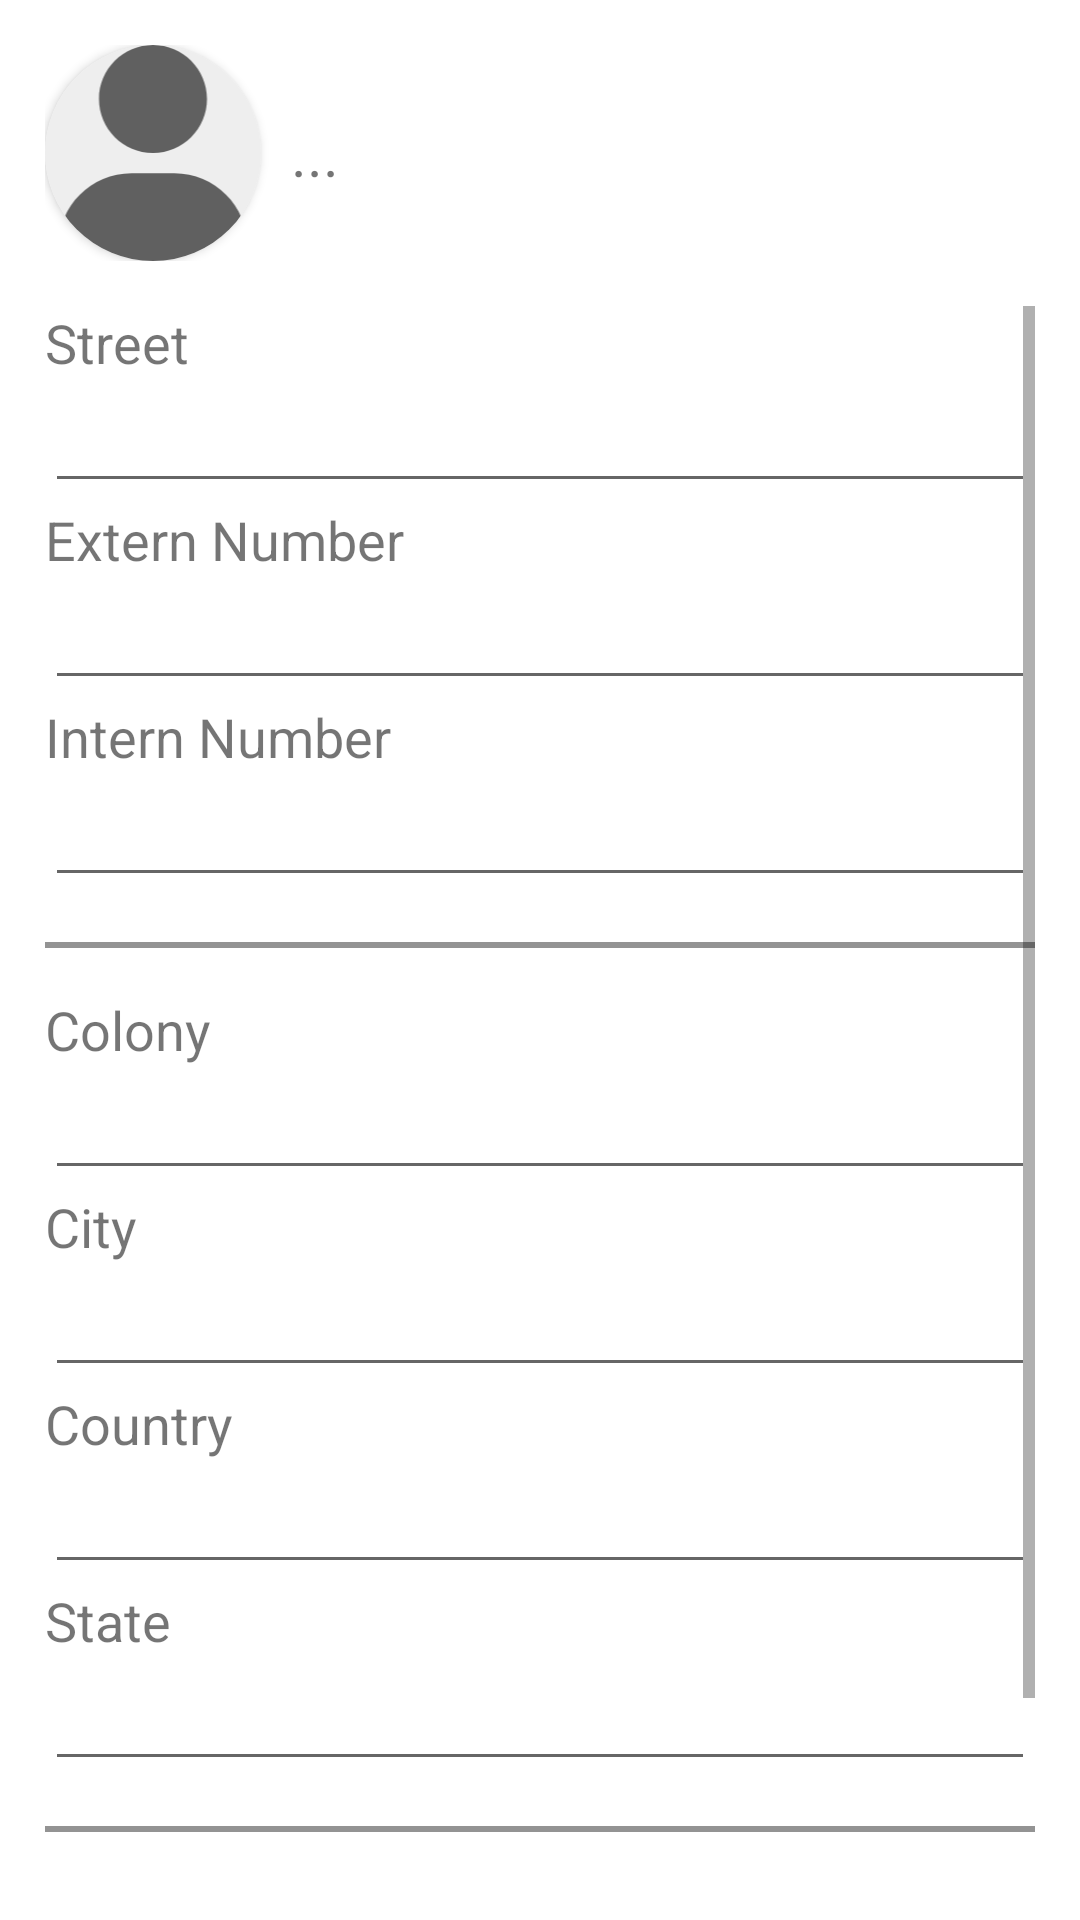

Where icons sit on this 1080px×1920px app screen, as box=[x1, y1, x2, y2]:
Avatar image: box=[45, 45, 261, 261]
